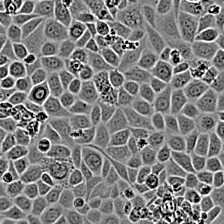cell: (192, 61, 224, 90), (39, 204, 62, 224), (0, 0, 22, 17), (50, 119, 70, 136), (45, 20, 62, 38), (179, 115, 196, 132), (49, 163, 67, 179), (85, 152, 101, 170), (149, 34, 165, 51), (156, 62, 171, 80), (122, 12, 142, 25), (32, 86, 47, 103), (35, 136, 50, 153), (56, 0, 68, 20), (36, 0, 52, 15), (28, 146, 43, 162), (200, 95, 214, 112), (22, 169, 41, 181), (173, 91, 185, 110), (197, 29, 216, 41), (177, 153, 192, 168), (110, 114, 125, 129), (103, 48, 117, 64), (25, 19, 41, 33), (117, 88, 131, 104), (209, 135, 219, 156), (113, 131, 128, 145), (45, 98, 60, 112), (94, 128, 108, 143), (128, 28, 144, 41), (44, 55, 61, 67), (31, 69, 45, 83), (10, 62, 24, 76), (8, 181, 21, 196), (110, 71, 123, 86), (79, 64, 92, 79), (70, 24, 83, 39), (165, 20, 178, 35), (188, 84, 204, 96), (129, 69, 146, 80), (157, 0, 170, 14), (146, 174, 158, 189), (3, 136, 15, 151), (54, 146, 70, 157), (96, 9, 112, 20), (91, 55, 104, 68), (9, 146, 21, 160), (73, 115, 87, 127), (214, 51, 224, 67), (72, 196, 84, 209), (14, 45, 27, 57), (183, 28, 195, 41), (97, 22, 109, 35), (189, 2, 202, 14), (126, 50, 139, 62), (7, 208, 21, 219), (71, 170, 82, 184), (69, 80, 80, 94), (48, 76, 59, 90), (16, 15, 35, 23), (82, 164, 92, 179), (175, 75, 190, 85), (61, 72, 71, 87), (199, 16, 209, 31), (200, 198, 212, 210), (17, 197, 29, 209), (48, 190, 60, 202), (208, 159, 220, 171), (171, 137, 183, 149), (21, 1, 33, 13), (69, 59, 81, 71), (157, 97, 168, 110), (24, 54, 35, 67), (61, 42, 72, 55), (139, 169, 149, 183), (142, 86, 152, 100), (187, 135, 196, 150), (72, 103, 87, 112), (140, 56, 155, 65), (39, 182, 50, 194), (137, 102, 148, 114), (86, 39, 97, 51), (27, 185, 37, 198), (199, 173, 212, 183), (84, 86, 94, 99), (143, 7, 153, 20), (215, 172, 224, 186), (160, 147, 169, 161), (10, 93, 24, 102), (42, 174, 53, 185), (143, 152, 154, 163), (126, 83, 137, 94), (152, 80, 163, 91), (44, 43, 55, 54), (70, 212, 80, 224), (187, 174, 197, 186), (10, 26, 20, 38), (79, 14, 94, 22), (26, 38, 38, 48), (210, 207, 219, 220), (17, 159, 26, 172), (154, 115, 163, 128), (199, 137, 206, 153), (92, 107, 100, 121), (174, 64, 188, 72), (34, 201, 44, 212), (3, 172, 13, 183), (203, 118, 214, 128), (185, 106, 196, 116), (195, 157, 204, 169), (2, 78, 14, 87), (208, 5, 220, 14), (106, 0, 119, 8), (17, 80, 27, 90), (118, 24, 128, 34), (172, 50, 179, 64), (136, 185, 148, 193), (87, 23, 95, 35), (0, 160, 6, 175), (161, 49, 170, 59), (197, 44, 206, 54), (168, 118, 176, 129), (0, 67, 8, 78), (132, 130, 146, 136), (217, 15, 224, 27), (0, 200, 9, 209), (63, 96, 72, 105), (189, 85, 202, 91), (129, 141, 136, 152), (29, 216, 38, 224), (129, 159, 138, 167), (106, 218, 117, 224), (181, 21, 190, 28), (103, 110, 109, 120), (119, 0, 126, 8), (0, 56, 6, 65), (89, 3, 98, 9)
